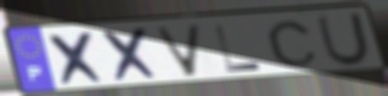C: (265, 19, 321, 69)
L: (211, 23, 266, 74)
U: (314, 11, 373, 68)
V: (151, 23, 205, 79)
X: (44, 29, 111, 88), (99, 26, 164, 85)
